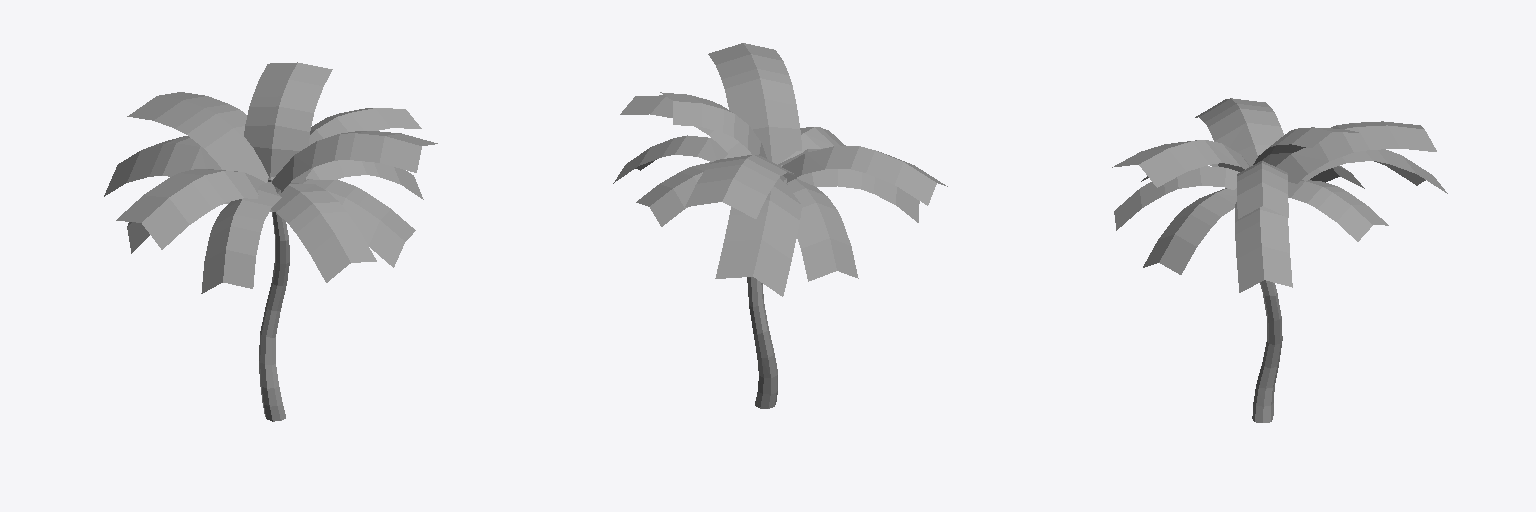
File: PalmTree_1.obj
3 renders of one model, left to right at view 1: azimuth 30°, elevation 25°; view 2: azimuth 150°, elevation 25°; view 3: azimuth 270°, elevation 25°, orthographic.
Visible parts, largest first — view 1: PalmTree_1_Cube.003; view 2: PalmTree_1_Cube.003; view 3: PalmTree_1_Cube.003.
Boxes of the visible parts, x1=… form: PalmTree_1_Cube.003: x1=104, y1=62, x2=437, y2=421; PalmTree_1_Cube.003: x1=613, y1=43, x2=947, y2=408; PalmTree_1_Cube.003: x1=1112, y1=98, x2=1447, y2=422.
Bounding box in the file's own units: 5.09 × 5.1 × 4.95.